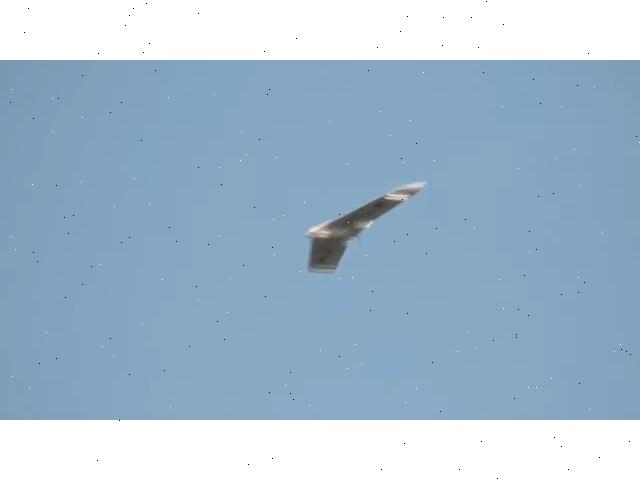Anti-Drone: (308, 182, 424, 274)
